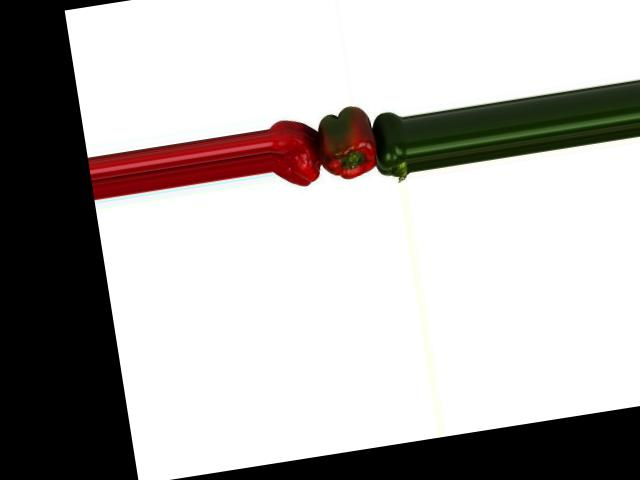bell_pepper: (265, 112, 327, 196)
